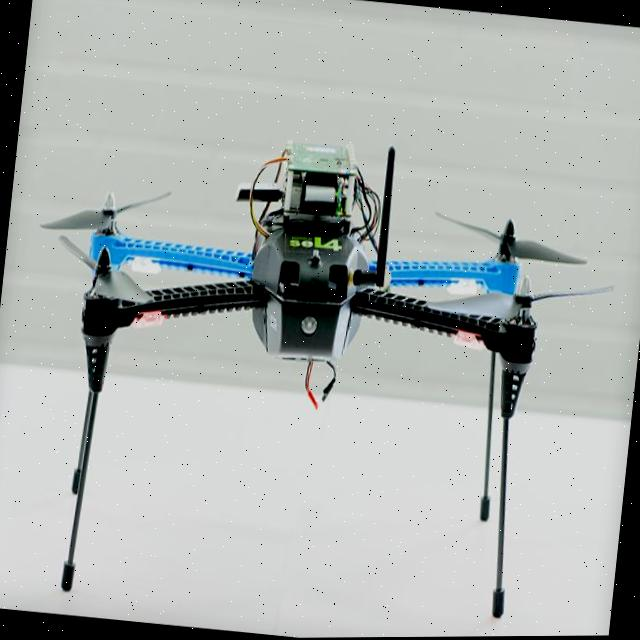drone: (0, 97, 633, 554)
